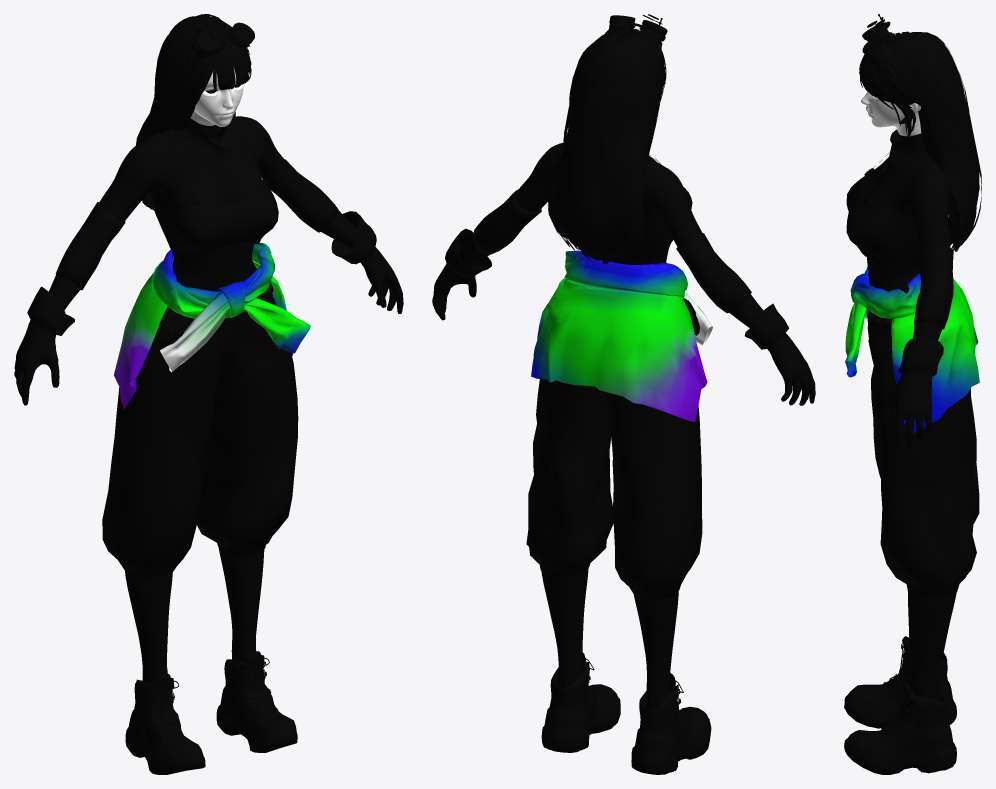
Rendered from SK_MechanicGirl_03.obj.
3 views of the same model, side by side, from view 1: azimuth 30°, elevation 25°; view 2: azimuth 150°, elevation 25°; view 3: azimuth 270°, elevation 25° (orthographic). The views are drawn at different scales.
Visible parts, largest first — view 1: SK_MECHANICGIRL_PANTS, SK_MECHANICGIRL_BODY_CUT, SK_MECHANICGIRL_SHIRT, SK_MECHANICGIRL_SHOES, SK_MECHANICGIRL_HAIR_LOOSE, SK_MECHANICGIRL_GLOVES, SK_MECHANICGIRL_TOP, SK_MECHANICGIRL_ELBOWS, SK_MECHANICGIRL_HEAD, SK_MECHANICGIRL_GLASSES_UP, SK_MECHANICGIRL_SCARF, SK_MECHANICGIRL_BELT; view 2: SK_MECHANICGIRL_PANTS, SK_MECHANICGIRL_SHIRT, SK_MECHANICGIRL_HAIR_LOOSE, SK_MECHANICGIRL_BODY_CUT, SK_MECHANICGIRL_SHOES, SK_MECHANICGIRL_GLOVES, SK_MECHANICGIRL_ELBOWS, SK_MECHANICGIRL_TOP, SK_MECHANICGIRL_GLASSES_UP; view 3: SK_MECHANICGIRL_PANTS, SK_MECHANICGIRL_HAIR_LOOSE, SK_MECHANICGIRL_BODY_CUT, SK_MECHANICGIRL_SHOES, SK_MECHANICGIRL_SHIRT, SK_MECHANICGIRL_GLOVES, SK_MECHANICGIRL_TOP, SK_MECHANICGIRL_ELBOWS, SK_MECHANICGIRL_HEAD, SK_MECHANICGIRL_GLASSES_UP, SK_MECHANICGIRL_SCARF, SK_MECHANICGIRL_BELT.
Boxes of the visible parts, x1,y1,x2,y2 form: SK_MECHANICGIRL_PANTS: (102, 266, 298, 577); SK_MECHANICGIRL_BODY_CUT: (48, 116, 356, 683); SK_MECHANICGIRL_SHIRT: (114, 242, 310, 409); SK_MECHANICGIRL_SHOES: (125, 651, 297, 774); SK_MECHANICGIRL_HAIR_LOOSE: (136, 14, 251, 210); SK_MECHANICGIRL_GLOVES: (14, 211, 403, 405); SK_MECHANICGIRL_TOP: (153, 122, 278, 257); SK_MECHANICGIRL_ELBOWS: (55, 159, 338, 290); SK_MECHANICGIRL_HEAD: (190, 68, 243, 126); SK_MECHANICGIRL_GLASSES_UP: (186, 22, 254, 65); SK_MECHANICGIRL_SCARF: (185, 118, 231, 169); SK_MECHANICGIRL_BELT: (154, 283, 273, 347); SK_MECHANICGIRL_PANTS: (526, 295, 702, 600); SK_MECHANICGIRL_SHIRT: (531, 250, 712, 422); SK_MECHANICGIRL_HAIR_LOOSE: (547, 27, 666, 263); SK_MECHANICGIRL_BODY_CUT: (459, 143, 763, 710); SK_MECHANICGIRL_SHOES: (541, 652, 711, 774); SK_MECHANICGIRL_GLOVES: (432, 228, 815, 405); SK_MECHANICGIRL_ELBOWS: (472, 190, 751, 313); SK_MECHANICGIRL_TOP: (615, 154, 692, 260); SK_MECHANICGIRL_GLASSES_UP: (605, 14, 667, 72); SK_MECHANICGIRL_PANTS: (867, 324, 979, 598); SK_MECHANICGIRL_HAIR_LOOSE: (859, 31, 981, 251); SK_MECHANICGIRL_BODY_CUT: (859, 133, 956, 700); SK_MECHANICGIRL_SHOES: (844, 636, 956, 774); SK_MECHANICGIRL_SHIRT: (845, 266, 979, 432); SK_MECHANICGIRL_GLOVES: (882, 337, 943, 450); SK_MECHANICGIRL_TOP: (846, 152, 951, 265); SK_MECHANICGIRL_ELBOWS: (914, 246, 953, 329); SK_MECHANICGIRL_HEAD: (861, 91, 921, 136); SK_MECHANICGIRL_GLASSES_UP: (862, 14, 913, 104); SK_MECHANICGIRL_SCARF: (880, 129, 923, 172); SK_MECHANICGIRL_BELT: (866, 309, 892, 328).
Size of the model in its own units: 98.33 by 182 by 31.6.
